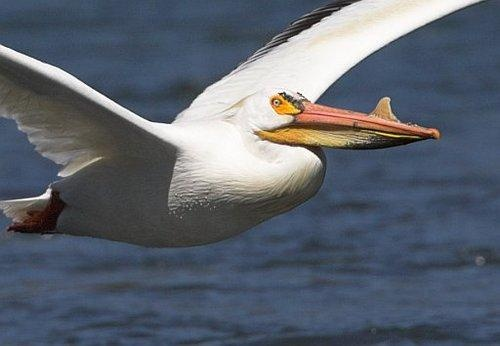bird: (11, 1, 488, 249)
